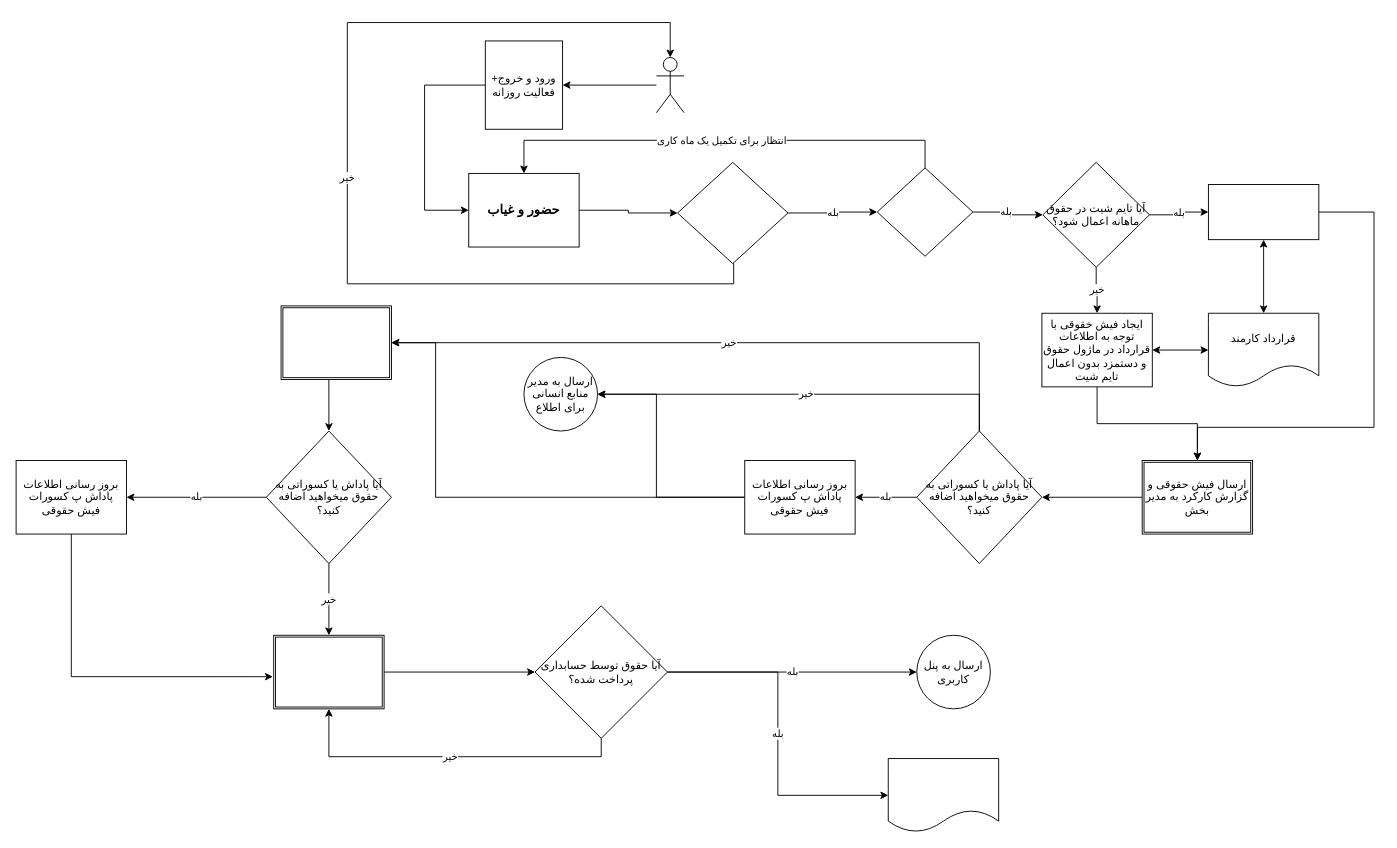
Some shapes in this 1397 by 848 pixel diagram are drawn without their labels. The centre of each missing label's shape, as x and y in pixels:
"آیا دیتای ماه جاری کامل شده است؟" belongs at (924,211).
"ارسال به حسابداری برای پرداخت حقوق" belongs at (328,671).
"ارسال به مدیر طرح و برنامه" belongs at (335,342).
"ثبت سند حسابداری و پرداخت حقوق" belongs at (943,795).
"محاسبه فیش حقوقی باتوجه به اطلاعات قرارداد و اعمال تایم شیت" belongs at (1263,212).
"کارمند" belongs at (670,85).
"گزارشات مورد تایید مدیر بخش است؟" belongs at (732,212).
